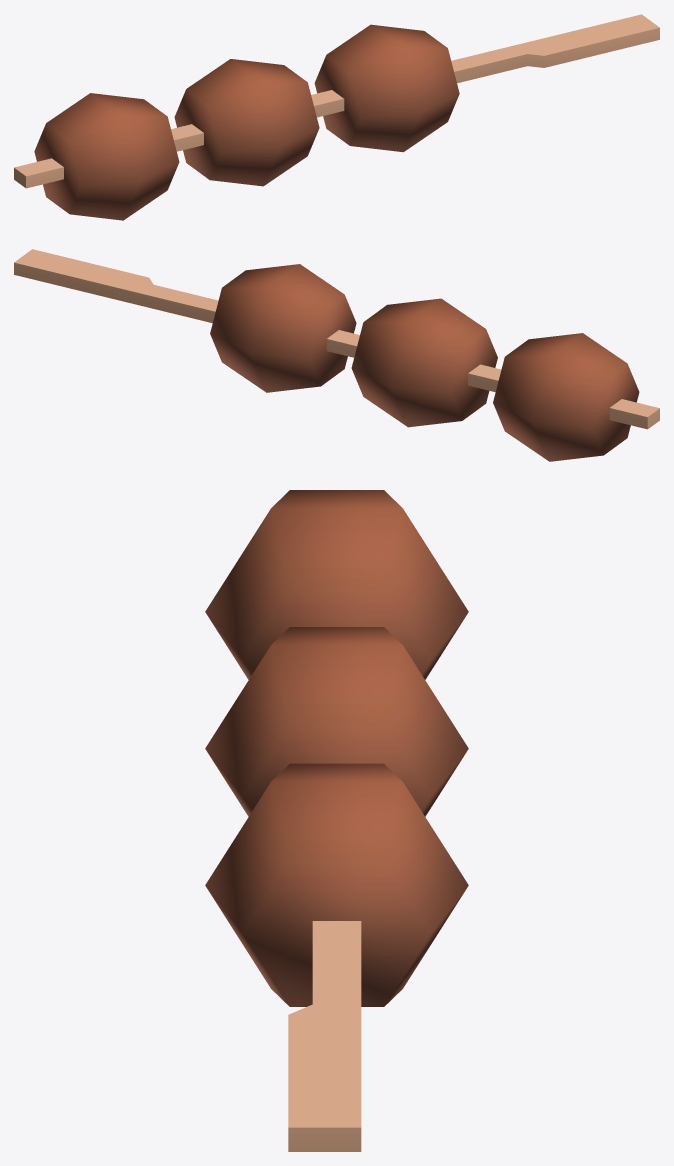
The model's file is skewer.glb.
3 views of the same model, one above another, from view 1: azimuth 30°, elevation 25°; view 2: azimuth 150°, elevation 25°; view 3: azimuth 270°, elevation 25° (orthographic). The views are drawn at different scales.
Parts seen in each view (by area): view 1: meat (×3), skewer; view 2: meat (×3), skewer; view 3: meat (×3), skewer.
Part boxes in pixels (x1=…): meat (×3): x1=34, y1=24, x2=459, y2=220; skewer: x1=14, y1=14, x2=659, y2=188; meat (×3): x1=210, y1=264, x2=639, y2=461; skewer: x1=14, y1=249, x2=659, y2=429; meat (×3): x1=205, y1=490, x2=468, y2=1006; skewer: x1=288, y1=921, x2=361, y2=1151.
Size of the model in its own units: 0.5967 by 0.094 by 0.1085.
Materials: 1 (1 with a texture image).
